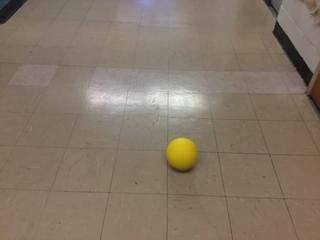power_cell: (165, 134, 204, 173)
